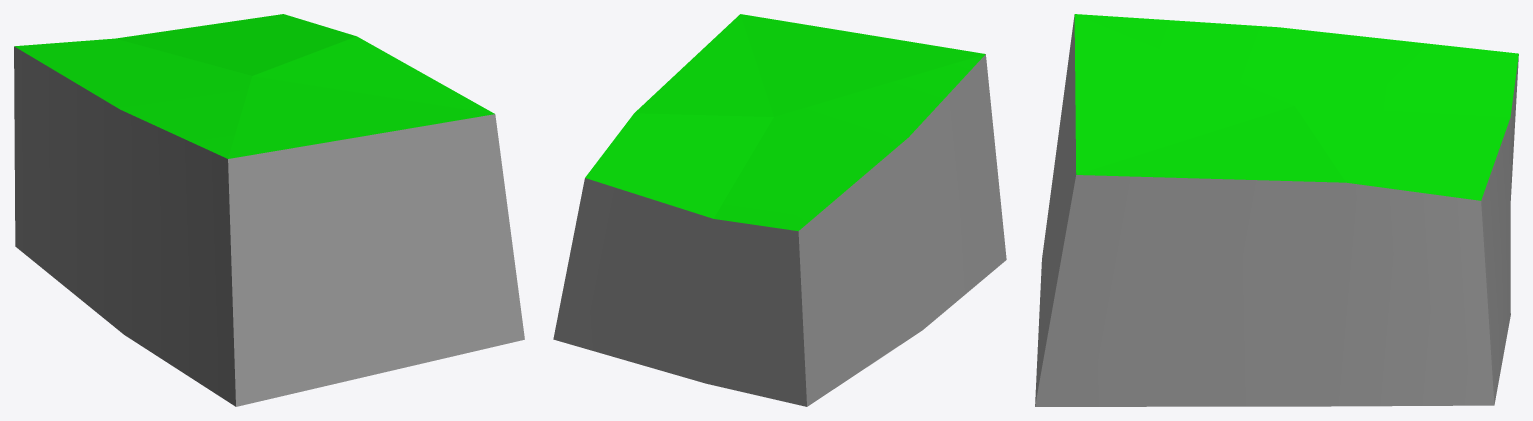
File: rock_gen_mini_C.fbx
3 views of the same model, side by side, from view 1: azimuth 30°, elevation 25°; view 2: azimuth 150°, elevation 25°; view 3: azimuth 270°, elevation 25° (orthographic). The views are drawn at different scales.
Visible parts, largest first — view 1: rock_gen_mini_C; view 2: rock_gen_mini_C; view 3: rock_gen_mini_C.
Boxes of the visible parts, box(x1,y1,x2,y2) form: rock_gen_mini_C: box(14, 14, 524, 406); rock_gen_mini_C: box(553, 14, 1006, 406); rock_gen_mini_C: box(1035, 14, 1518, 406).
Bounding box in the file's own units: 5.7 × 4.33 × 7.62.
